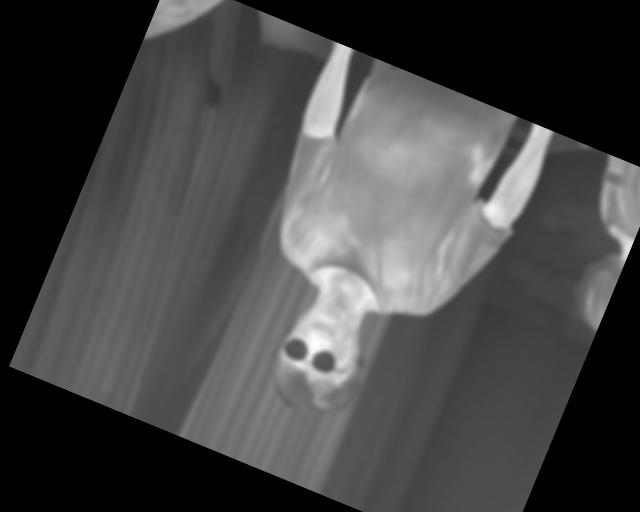face: (259, 290, 383, 428)
